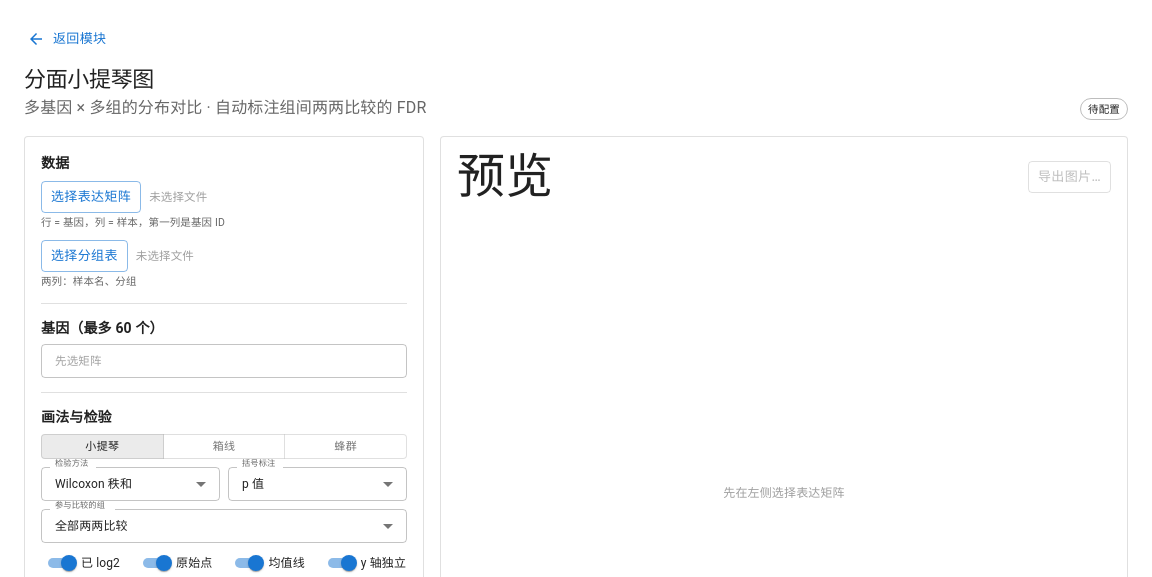
ViolinPage 空态提示 › 两个文件都选好但没选基因时，提示指到「基因」这一步
The image size is (1152, 577).
Step 1. Click the button "选择表达矩阵" → (91, 197), box [41,181,141,213]
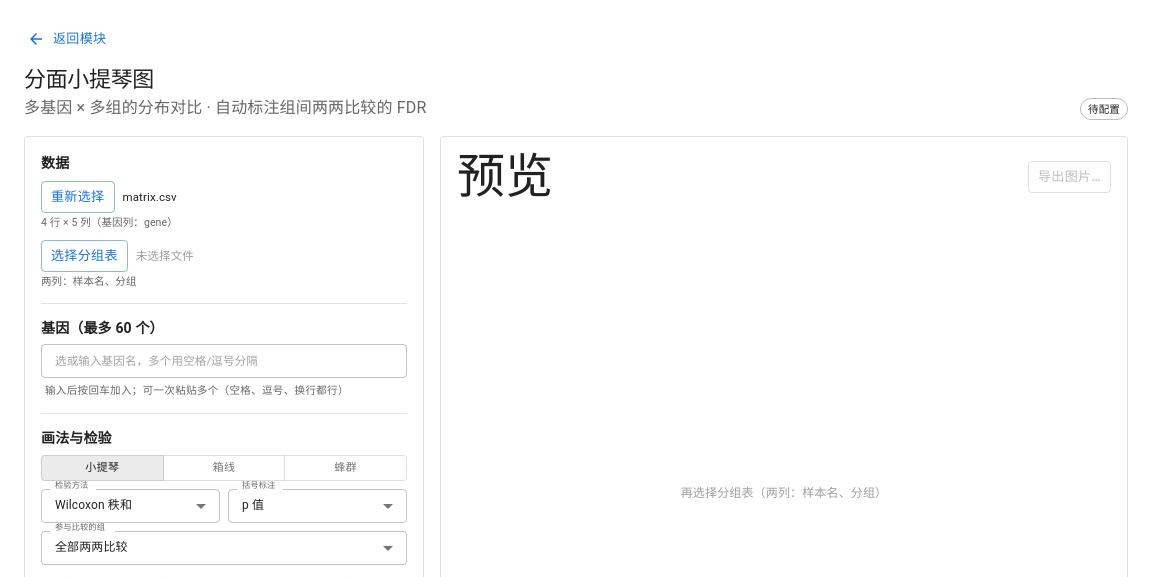
Expected: the text "4 行 × 5 列（基因列：gene）" is shown, [41,216,178,229]
Step 2. Click the button "选择分组表" → (84, 256), box [41,240,128,272]
(page scrolled)
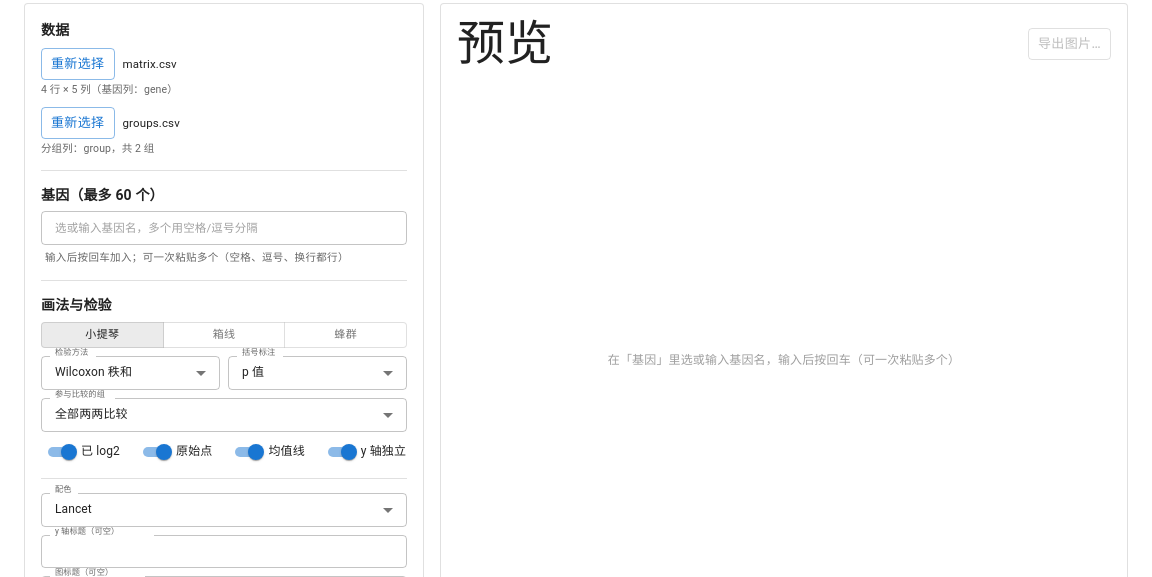
Expected: the text "分组列：group，共 2 组" is shown, [41,142,154,155]
Expected: the text "在「基因」里选或输入基因名，输入后按回车（可一次粘贴多个）" is shown, [608,353,960,367]
